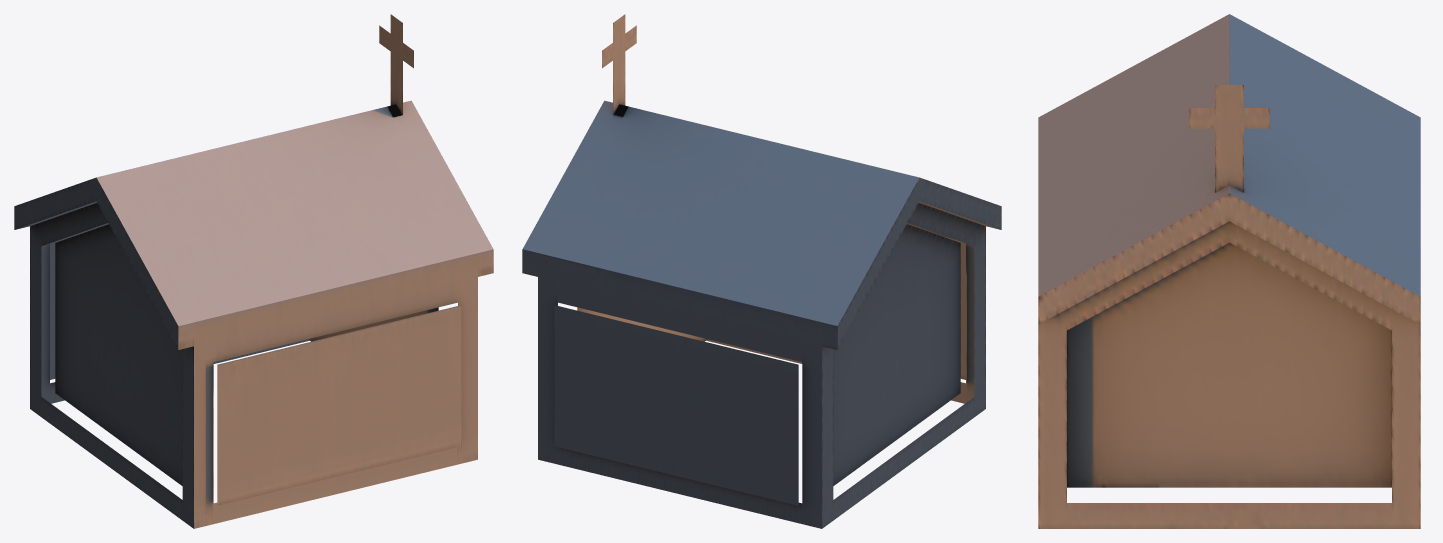
The picture shows the model from 3 angles, left to right: view 1: azimuth 30°, elevation 25°; view 2: azimuth 150°, elevation 25°; view 3: azimuth 270°, elevation 25°; orthographic projection. The views are drawn at different scales.
Parts seen in each view (by area): view 1: Tombe3 low; view 2: Tombe3 low; view 3: Tombe3 low.
Boxes of the visible parts, left/top/right/bottom form: Tombe3 low: left=14, top=14, right=493, bottom=528; Tombe3 low: left=522, top=14, right=1001, bottom=528; Tombe3 low: left=1038, top=14, right=1420, bottom=528.
Size of the model in its own units: 2.22 by 2.56 by 2.08.
Materials: 1 (1 with a texture image).
